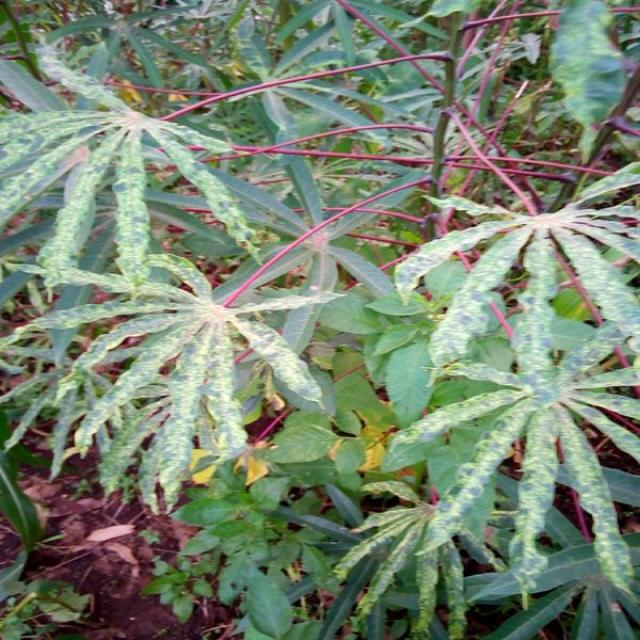cassava leaf: (1, 2, 638, 637), (70, 248, 338, 515)
